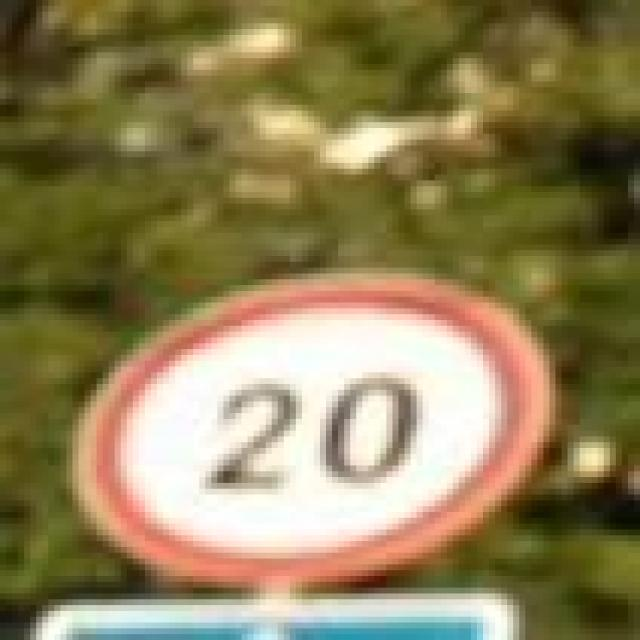traffic_sign: (72, 268, 556, 588)
